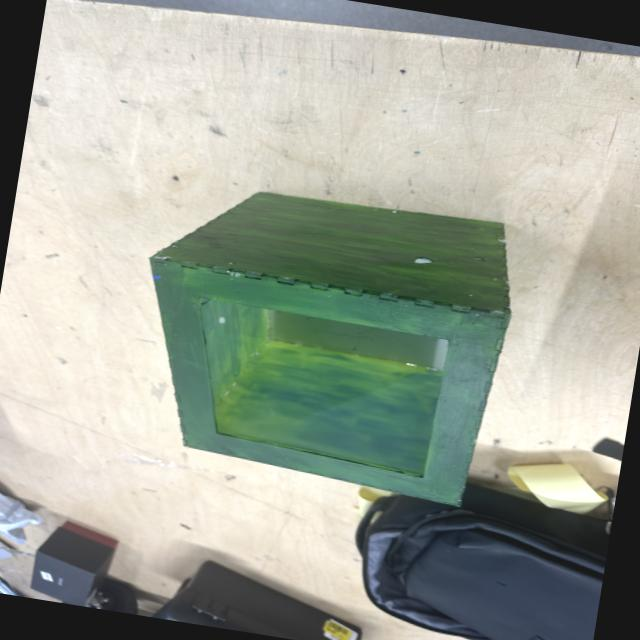green_bin: (116, 169, 528, 512)
